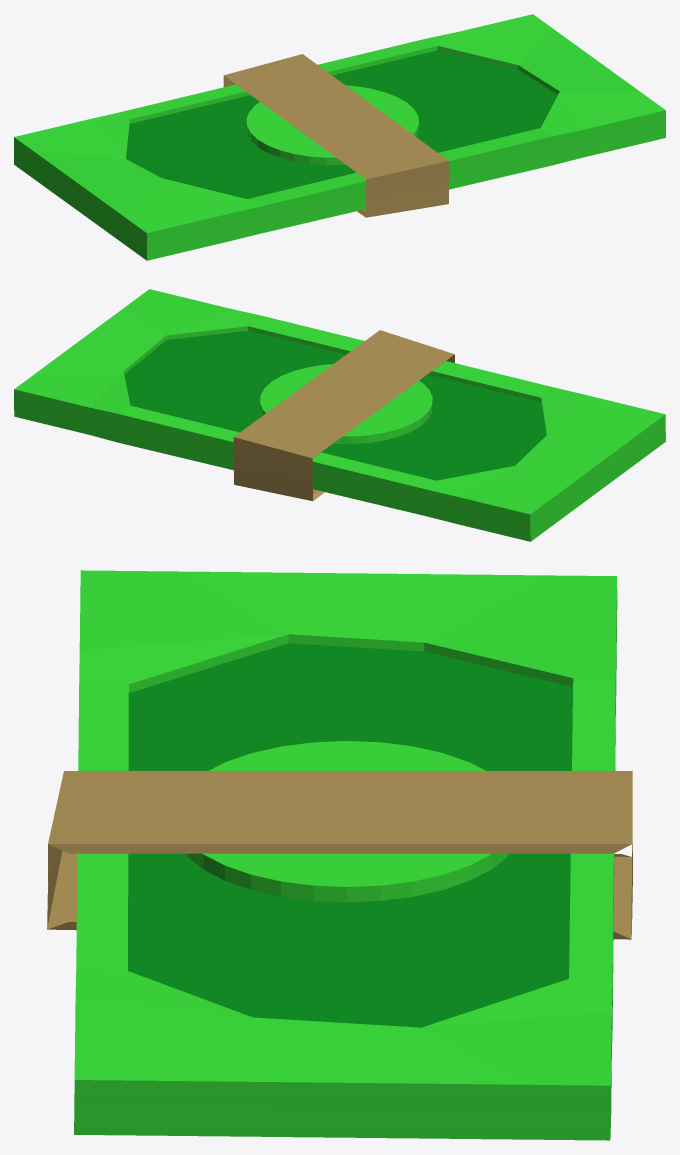
File: money_2.fbx
3 views of the same model, one above another, from view 1: azimuth 30°, elevation 25°; view 2: azimuth 150°, elevation 25°; view 3: azimuth 270°, elevation 25° (orthographic). The views are drawn at different scales.
Parts seen in each view (by area): view 1: Cube; view 2: Cube; view 3: Cube.
Part boxes in pixels (bbox=[...]): Cube: bbox=[14, 14, 665, 260]; Cube: bbox=[14, 289, 665, 541]; Cube: bbox=[47, 570, 632, 1140].
Bounding box in the file's own units: 201 × 17.68 × 98.05.
